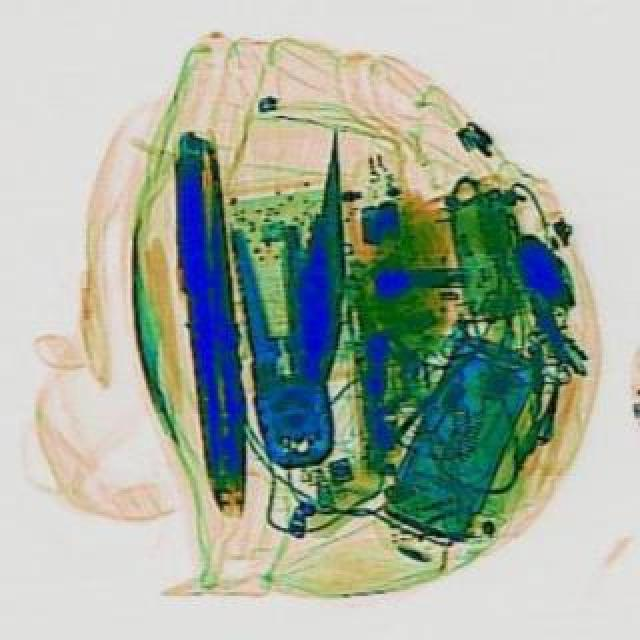wrench: (218, 126, 364, 470)
